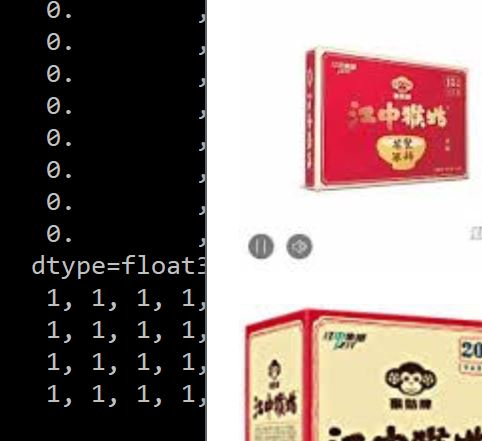box: (302, 45, 468, 192)
